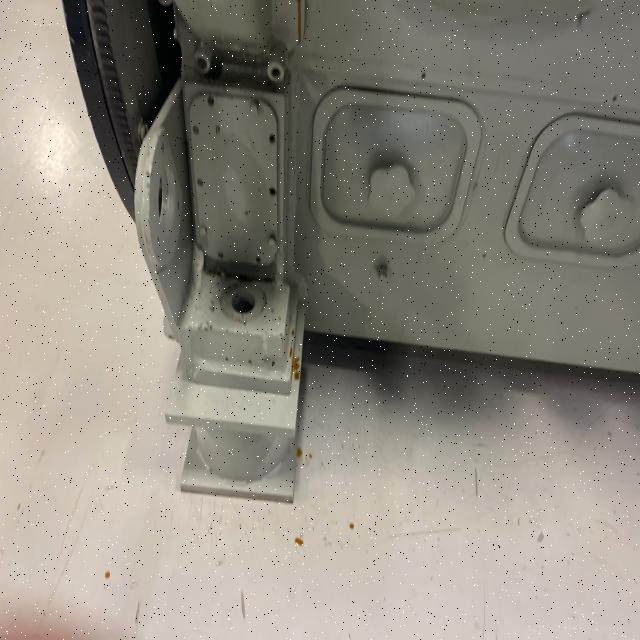Oil Leak: (273, 297, 307, 396), (297, 0, 305, 44)
